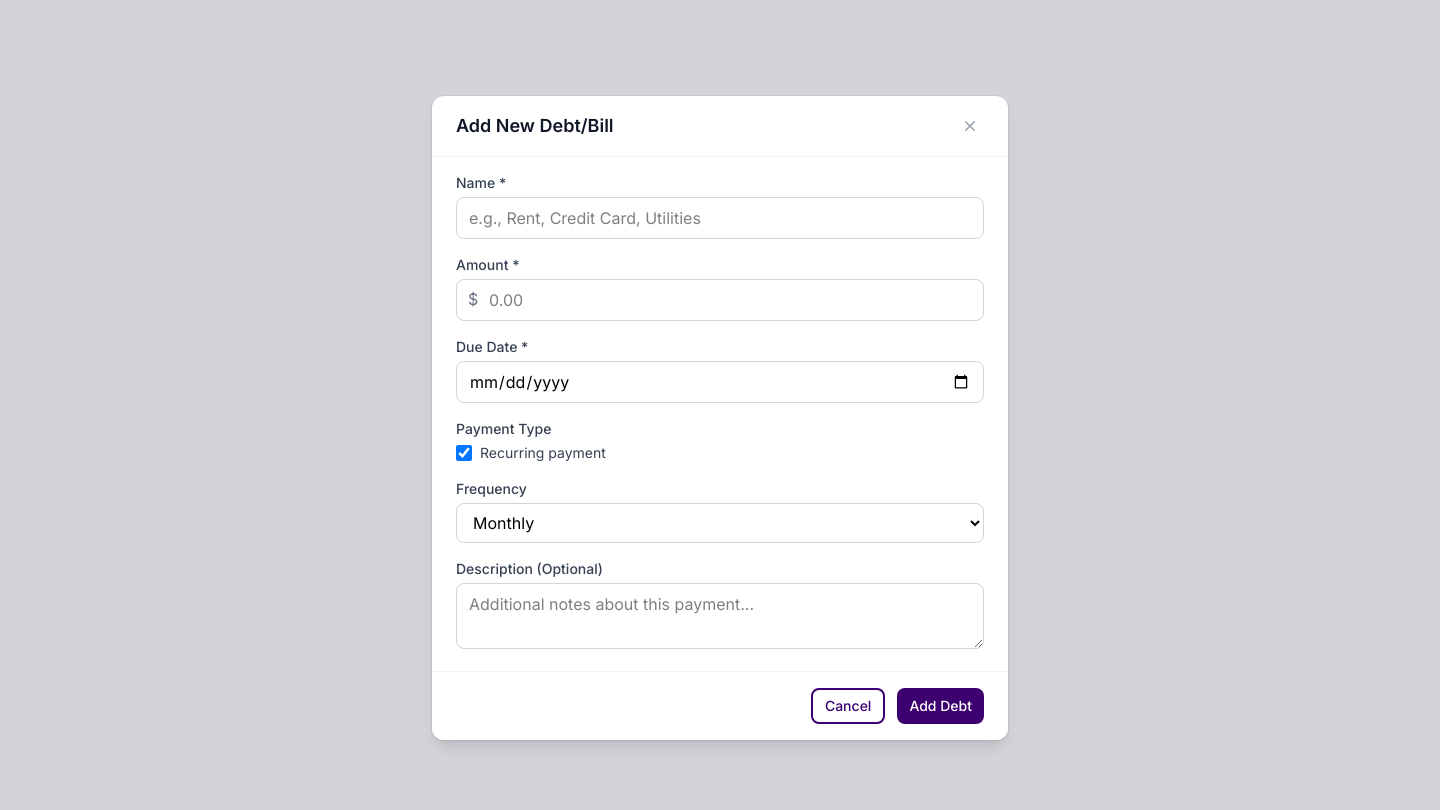
it: AddDebtModal › shows loading state during submission
Fill out and submit the form
In the field labelled "Name *": (720, 218) [456,197,984,239], type "Test Debt"
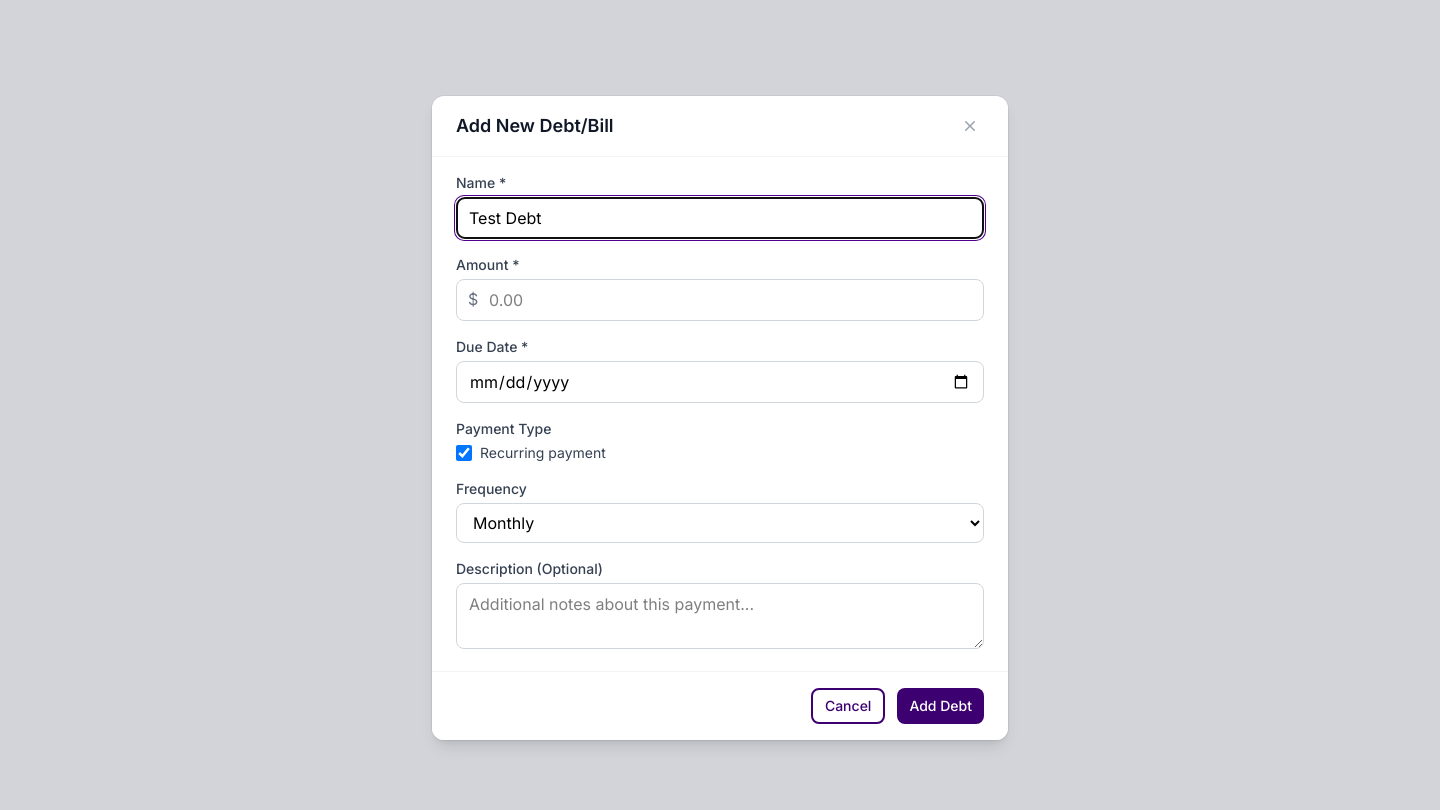
In the field labelled "Amount *": (720, 300) [456,279,984,321], type "500"
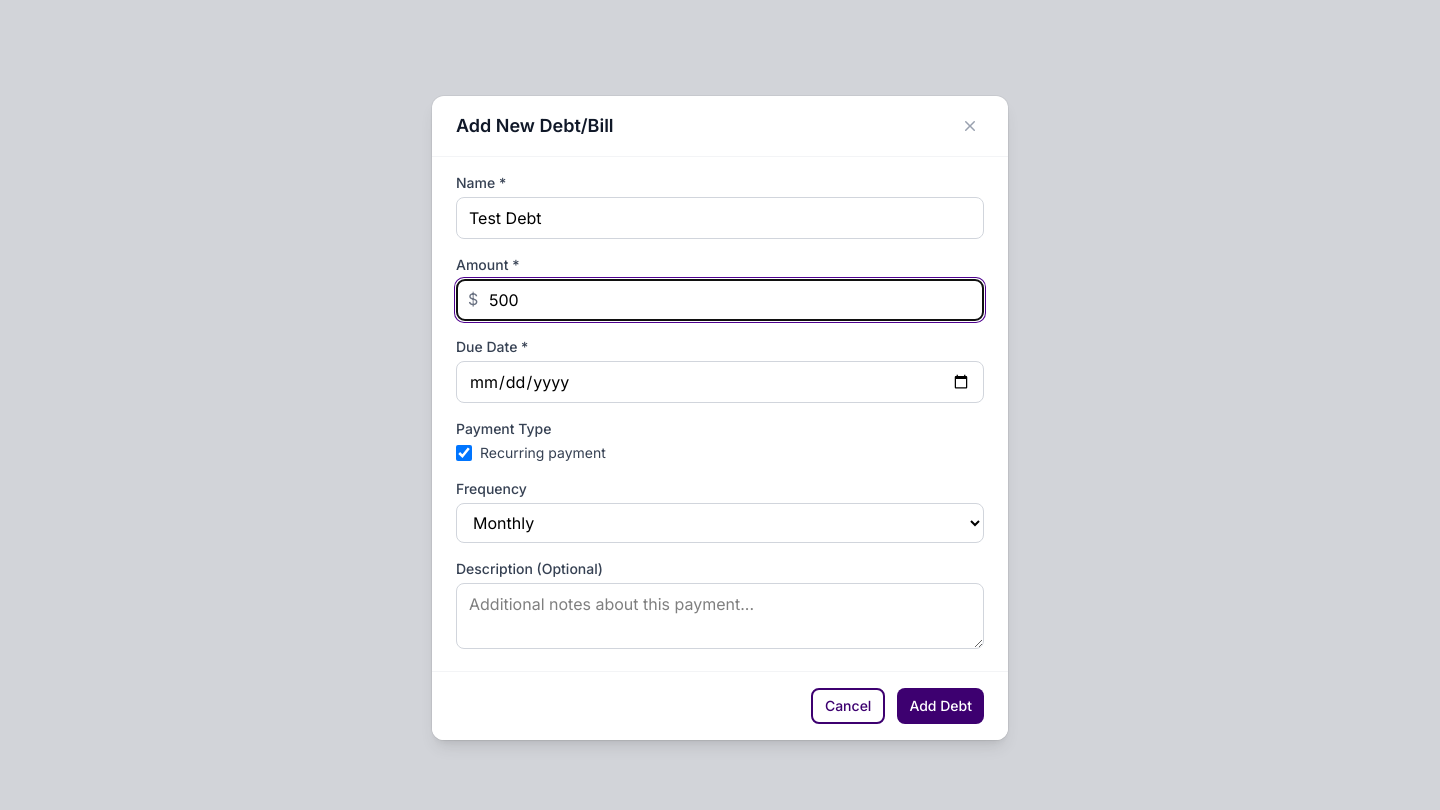
In the date field labelled "Due Date *": (720, 382) [456,361,984,403], type "2024-02-15"
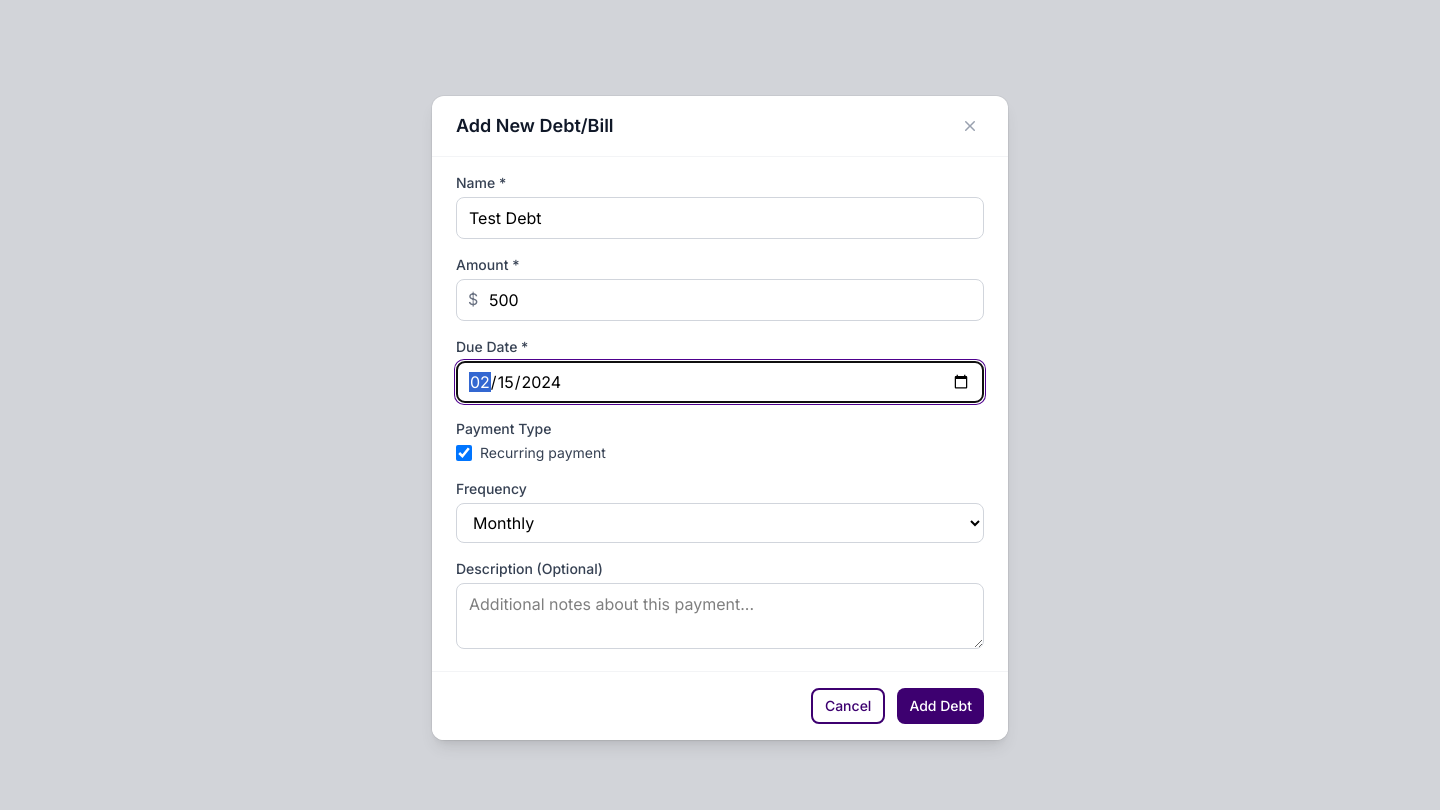
Click the button "Add Debt": (941, 706) [897,688,984,724]
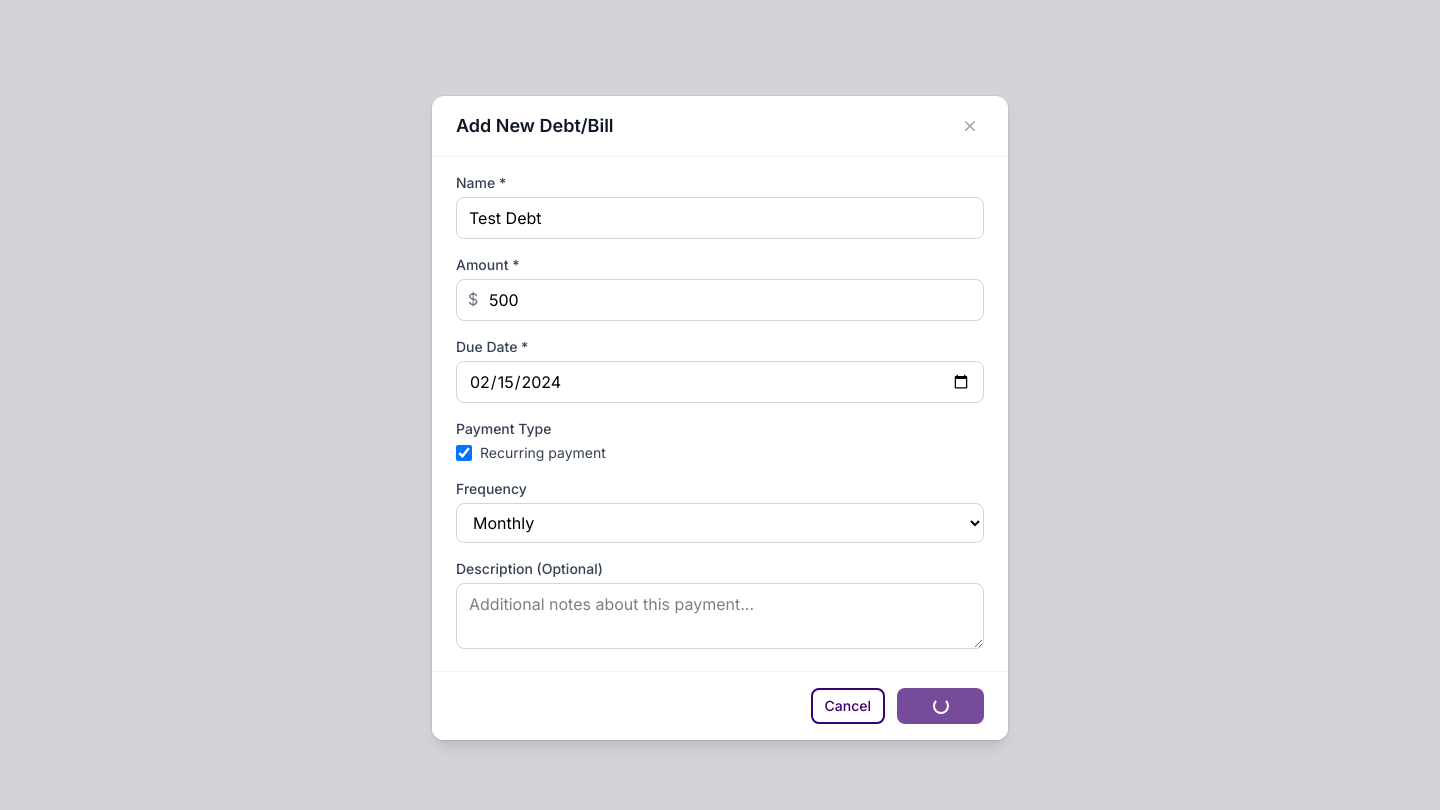
Result: the button named "Add Debt" is disabled at [897,688,984,724]
